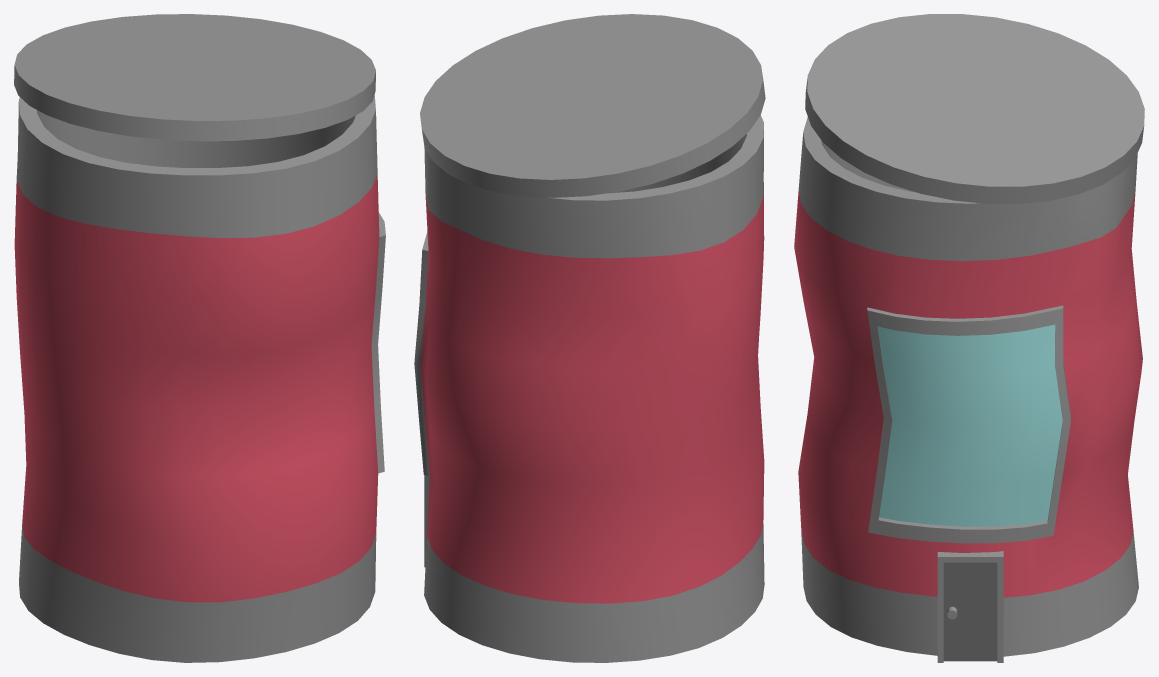
Rendered from Can_Red.fbx.
3 renders of one model, left to right at view 1: azimuth 30°, elevation 25°; view 2: azimuth 150°, elevation 25°; view 3: azimuth 270°, elevation 25°, orthographic. The views are drawn at different scales.
Visible parts, largest first — view 1: Cube.001; view 2: Cube.001; view 3: Cube.001.
Part boxes in pixels (<box>): Cube.001: <box>14,14,385,662</box>; Cube.001: <box>414,14,765,662</box>; Cube.001: <box>794,14,1144,662</box>.
Bounding box in the file's own units: 123 × 197 × 122.
